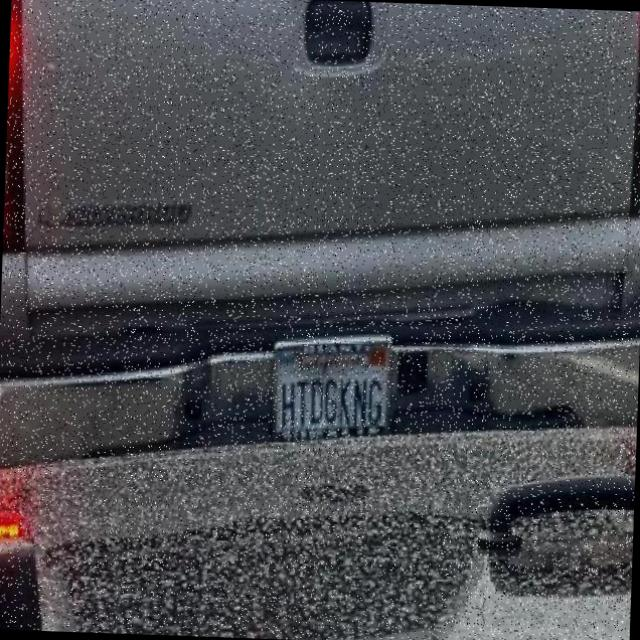LicensePlate: (269, 333, 392, 443)
